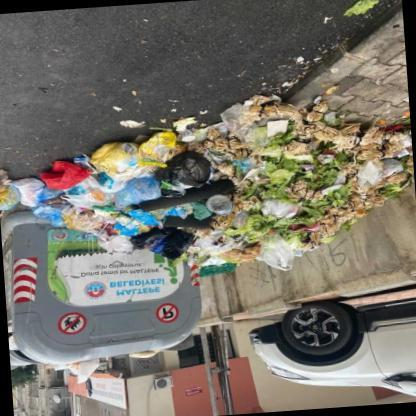Garbage: (139, 109, 415, 262), (40, 116, 291, 248), (0, 149, 97, 216)
